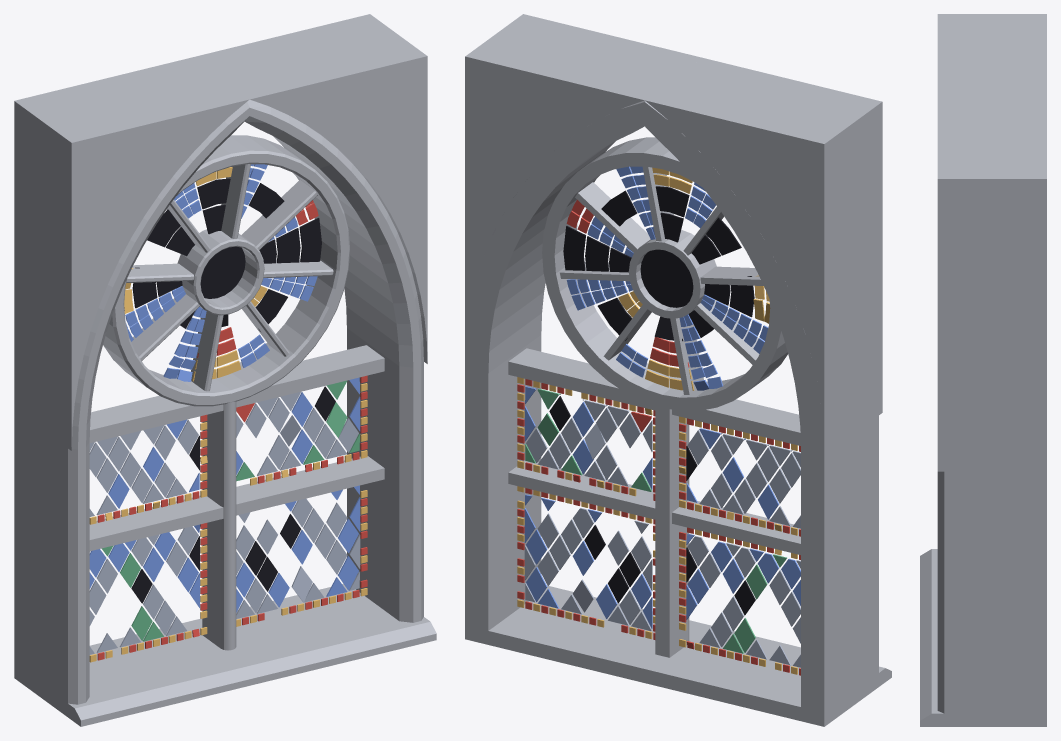
The model's file is ChapelSunburst.fbx.
3 renders of one model, left to right at view 1: azimuth 30°, elevation 25°; view 2: azimuth 150°, elevation 25°; view 3: azimuth 270°, elevation 25°, orthographic. The views are drawn at different scales.
Parts seen in each view (by area): view 1: ChapelSunburst; view 2: ChapelSunburst; view 3: ChapelSunburst.
Boxes of the visible parts, left/top/right/bottom form: ChapelSunburst: left=14, top=14, right=436, bottom=726; ChapelSunburst: left=465, top=14, right=891, bottom=726; ChapelSunburst: left=920, top=14, right=1046, bottom=726.
Size of the model in its own units: 2 by 3.1 by 0.65.
